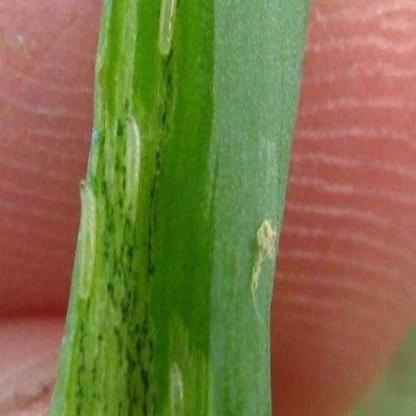whorl-maggot: (120, 110, 144, 228), (76, 175, 96, 308), (156, 0, 179, 61), (166, 360, 186, 416)
